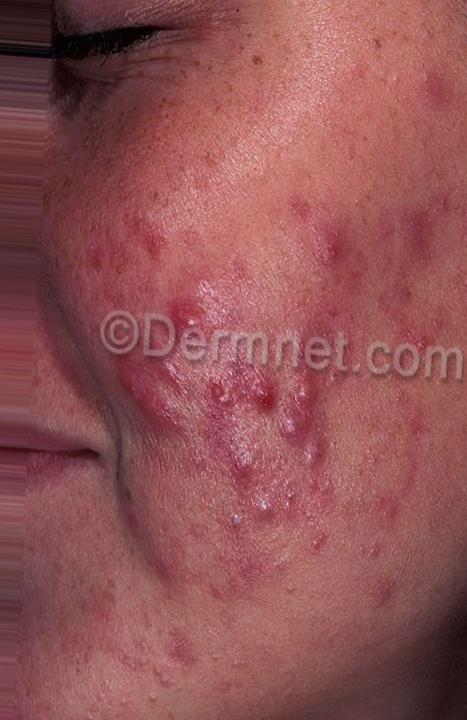Acne: (287, 373, 349, 470), (83, 223, 178, 280), (309, 217, 380, 288), (107, 329, 184, 394), (391, 317, 467, 382), (203, 367, 293, 418), (161, 621, 221, 695), (233, 437, 285, 522), (399, 193, 449, 270), (411, 59, 465, 125), (131, 533, 192, 590), (371, 547, 418, 618), (139, 411, 198, 456), (281, 333, 364, 361), (171, 289, 216, 340)
